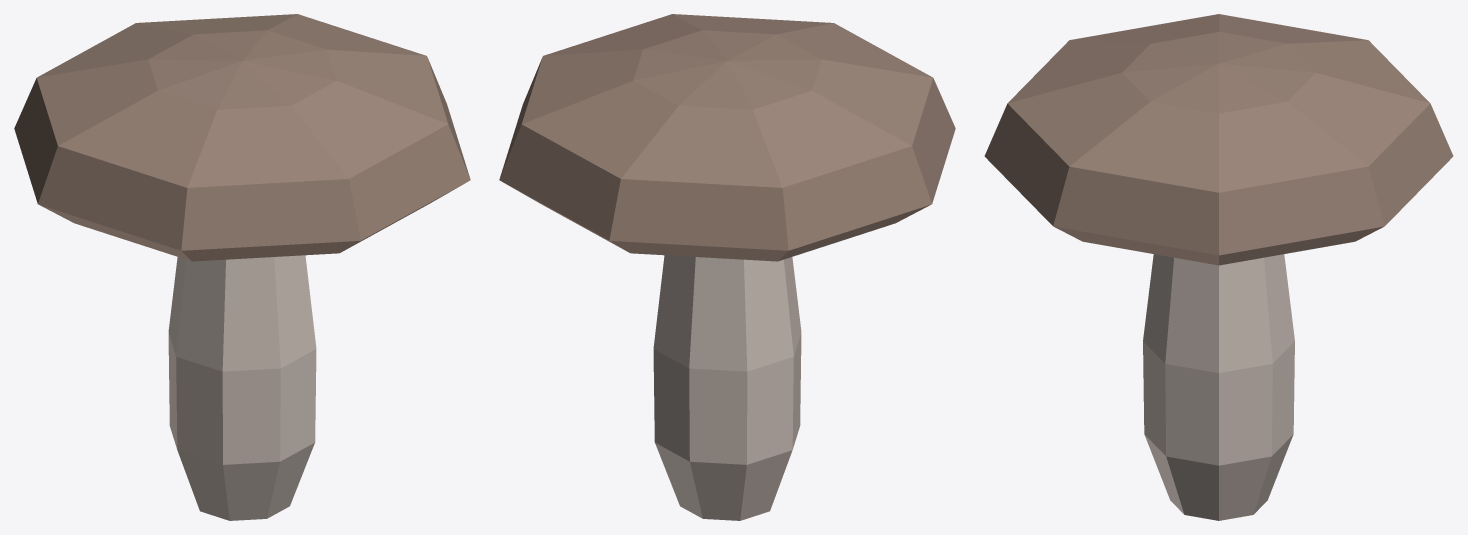
Rendered from Mushroom_12.fbx.
The picture shows the model from 3 angles, left to right: view 1: azimuth 30°, elevation 25°; view 2: azimuth 150°, elevation 25°; view 3: azimuth 270°, elevation 25°; orthographic projection.
Parts seen in each view (by area): view 1: Mushroom_12; view 2: Mushroom_12; view 3: Mushroom_12.
Boxes of the visible parts, left/top/right/bottom form: Mushroom_12: left=14, top=14, right=470, bottom=520; Mushroom_12: left=499, top=14, right=955, bottom=520; Mushroom_12: left=984, top=14, right=1453, bottom=520.
Bounding box in the file's own units: 55.46 × 56.97 × 55.46.
